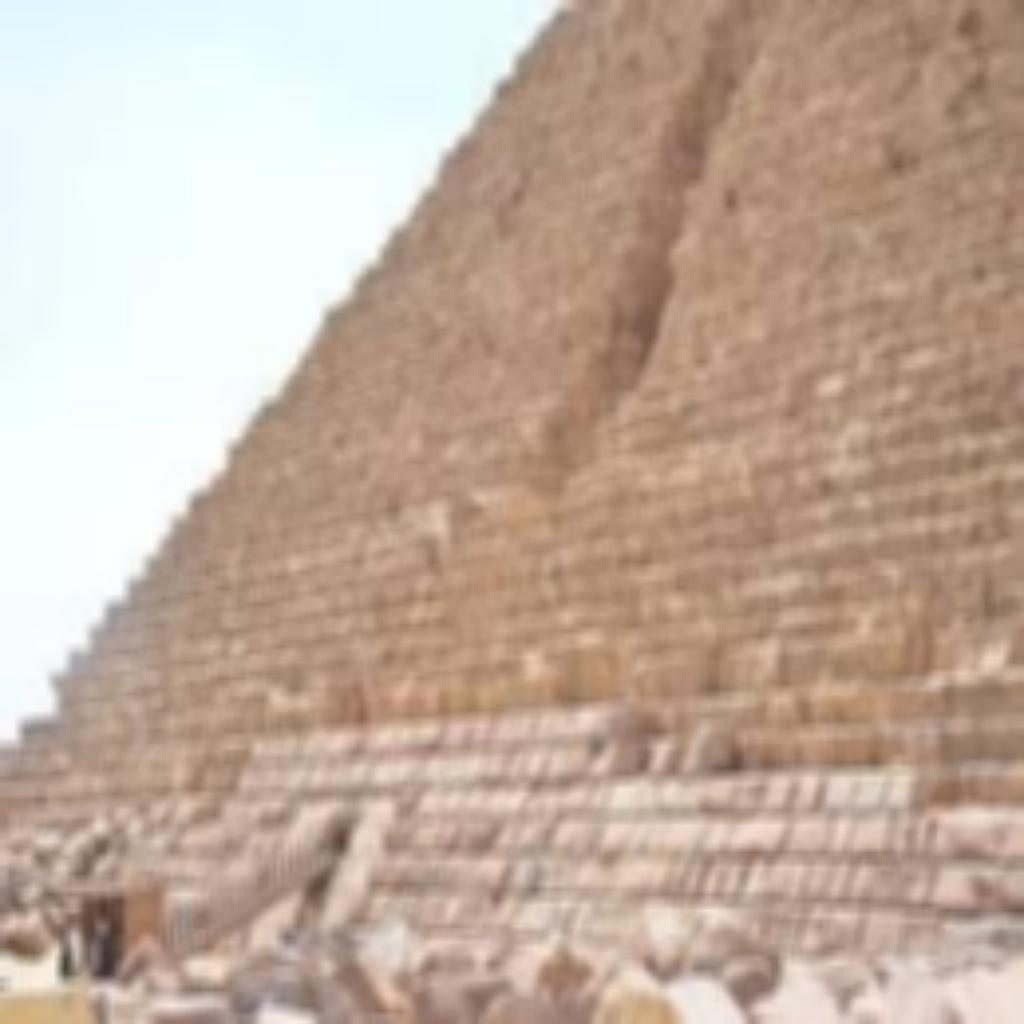Great Pyramids of Giza: (0, 0, 1020, 1019)
